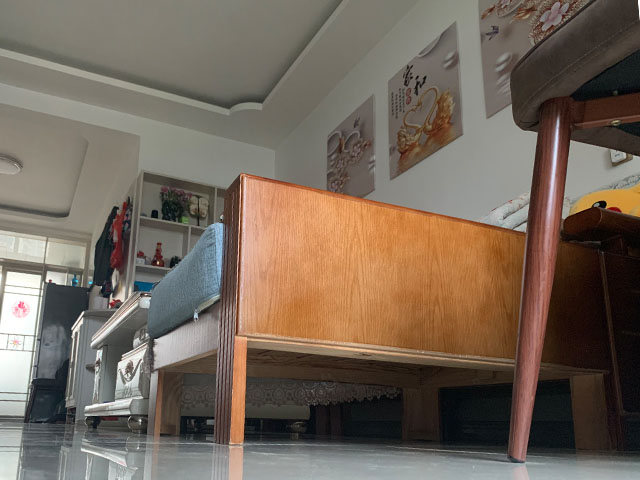sofa: (144, 171, 640, 448)
stool: (506, 1, 640, 464)
table: (81, 290, 149, 433)
